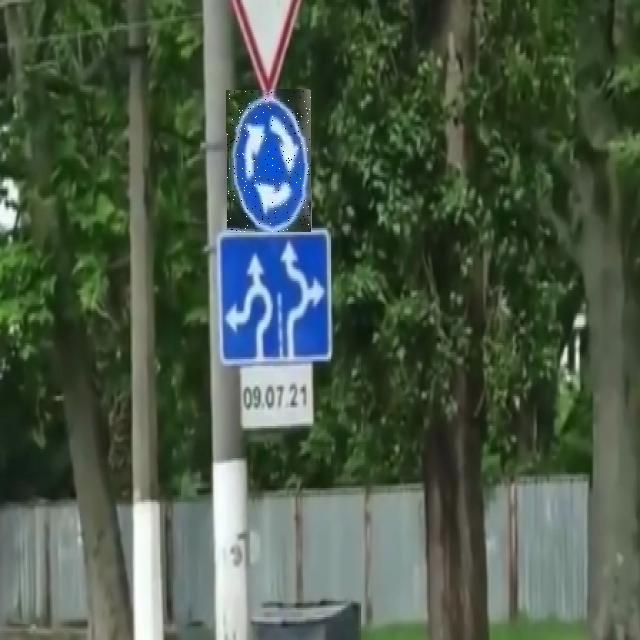roundabout: (227, 90, 311, 232)
